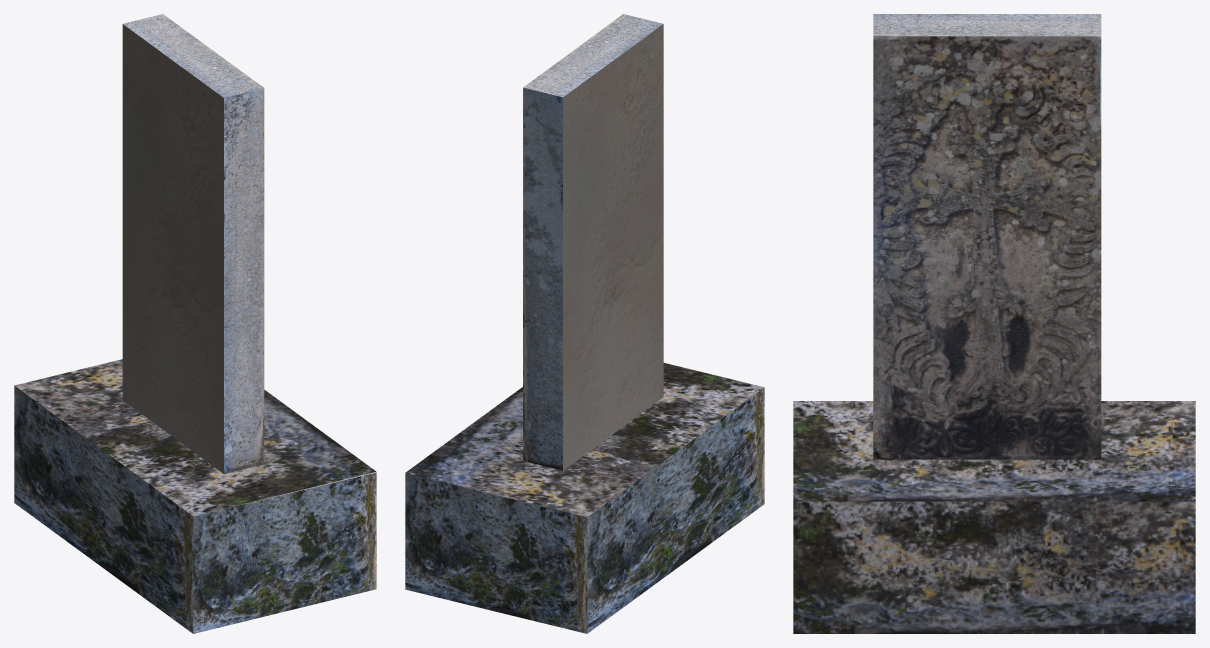
The model's file is Khachkar5.glb.
3 renders of one model, left to right at view 1: azimuth 30°, elevation 25°; view 2: azimuth 150°, elevation 25°; view 3: azimuth 270°, elevation 25°, orthographic. The views are drawn at different scales.
Visible parts, largest first — view 1: ShapeIndexedFaceSet.001; view 2: ShapeIndexedFaceSet.001; view 3: ShapeIndexedFaceSet.001.
Boxes of the visible parts, bbox=[...] form: ShapeIndexedFaceSet.001: bbox=[14, 14, 376, 633]; ShapeIndexedFaceSet.001: bbox=[405, 14, 764, 633]; ShapeIndexedFaceSet.001: bbox=[793, 14, 1195, 633].
Size of the model in its own units: 0.7822 by 2.01 by 1.32.
1 material, 1 textured.
